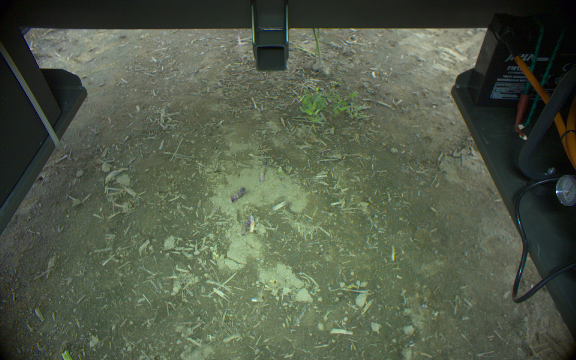aspa: (310, 27, 325, 69), (312, 28, 321, 64), (259, 154, 268, 182)
